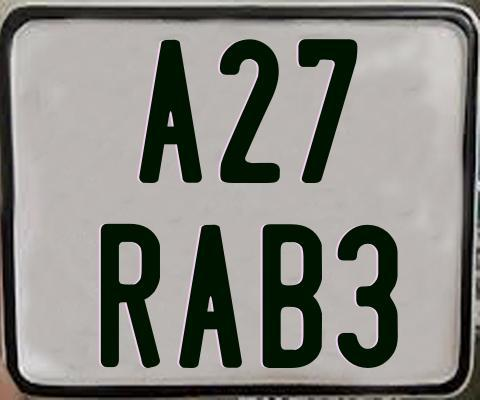2: (219, 38, 282, 188)
3: (337, 225, 402, 373)
7: (298, 38, 364, 182)
A: (137, 39, 202, 184), (179, 224, 242, 373)
B: (262, 223, 326, 373)
R: (101, 224, 160, 369)
